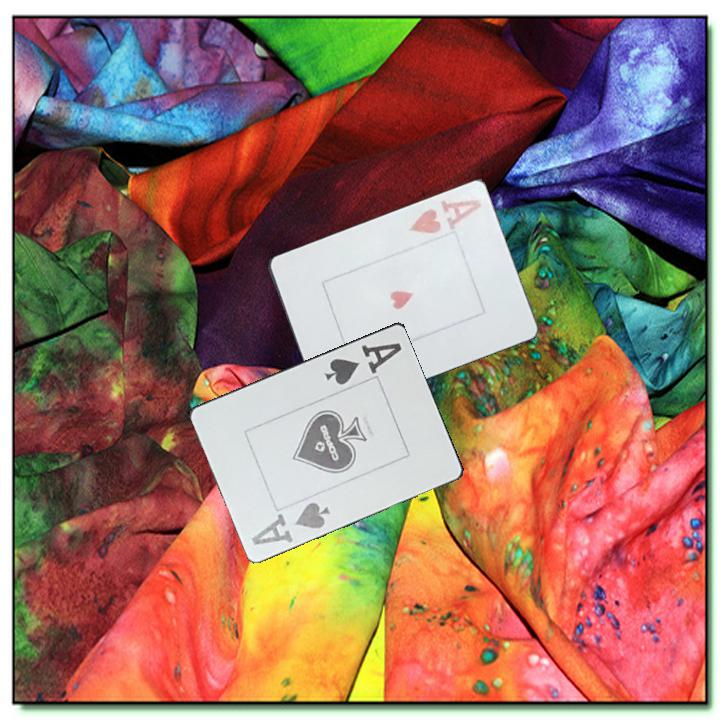Ah: (405, 196, 484, 238)
As: (248, 498, 333, 548), (320, 339, 405, 387)
